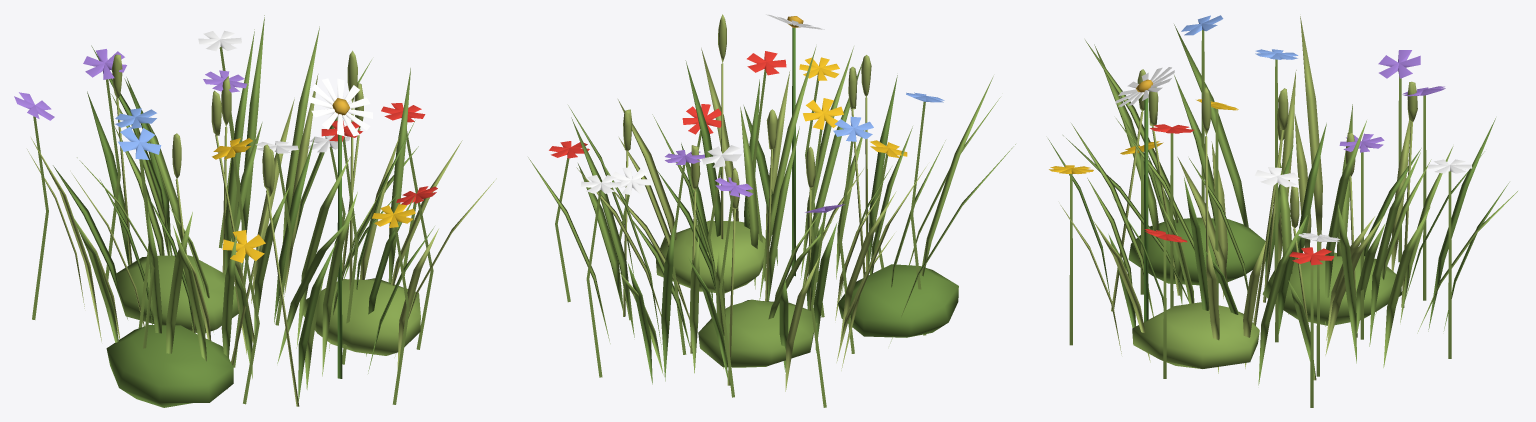
The model's file is meadow.glb.
3 views of the same model, side by side, from view 1: azimuth 30°, elevation 25°; view 2: azimuth 150°, elevation 25°; view 3: azimuth 270°, elevation 25° (orthographic). The views are drawn at different scales.
Parts seen in each view (by area): view 1: meadow, picked; view 2: meadow, picked; view 3: meadow, picked.
Boxes of the visible parts, bbox=[...] form: meadow: bbox=[14, 15, 496, 407]; picked: bbox=[309, 78, 372, 378]; meadow: bbox=[528, 14, 1015, 407]; picked: bbox=[766, 14, 824, 276]; meadow: bbox=[1048, 15, 1517, 407]; picked: bbox=[1115, 67, 1174, 321].
Size of the model in its own units: 0.872 by 0.575 by 0.91.
